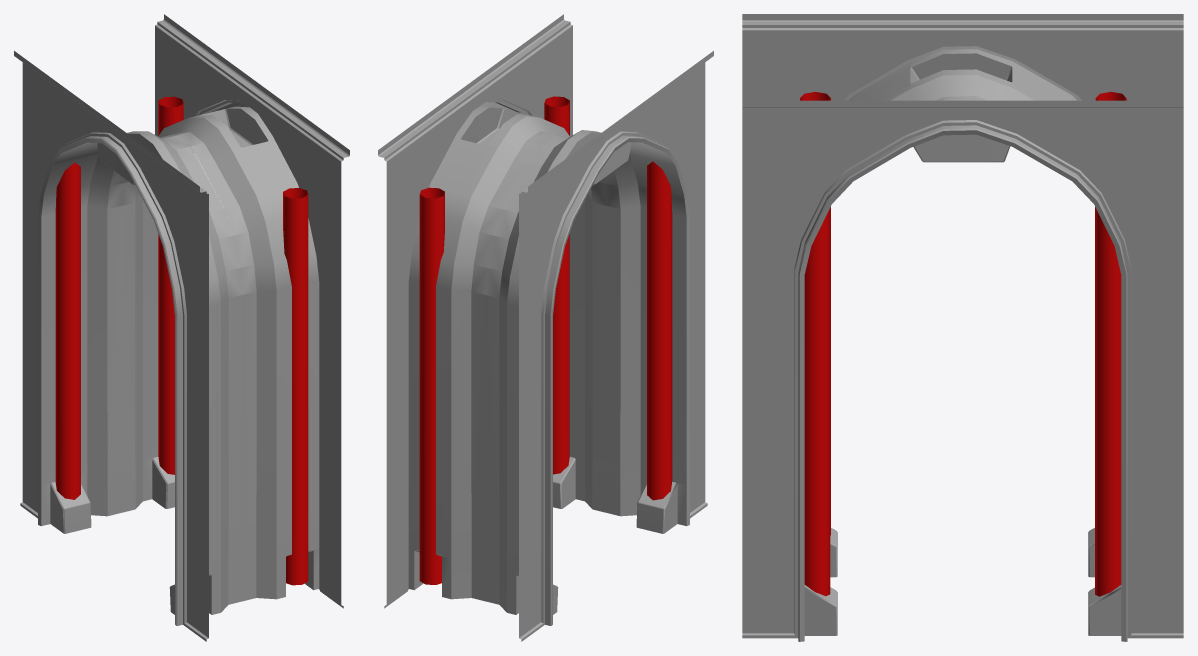
File: aqua small.fbx
The picture shows the model from 3 angles, left to right: view 1: azimuth 30°, elevation 25°; view 2: azimuth 150°, elevation 25°; view 3: azimuth 270°, elevation 25°; orthographic projection. The views are drawn at different scales.
Parts seen in each view (by area): view 1: Base_structure1, pipe_2, pipe_4, pipe_3; view 2: Base_structure1, pipe_1, pipe_3, pipe_4; view 3: Base_structure1, pipe_3, pipe_4.
Part boxes in pixels (box(x1,y1,x2,y2)): Base_structure1: box(14, 14, 349, 641); pipe_2: box(55, 162, 80, 499); pipe_4: box(283, 188, 308, 585); pipe_3: box(158, 96, 183, 474); Base_structure1: box(378, 14, 713, 641); pipe_1: box(647, 161, 672, 500); pipe_3: box(419, 187, 444, 584); pipe_4: box(544, 96, 569, 474); Base_structure1: box(742, 14, 1183, 641); pipe_3: box(1095, 207, 1121, 596); pipe_4: box(804, 208, 830, 596).
Bounding box in the file's own units: 2.79 × 8.12 × 6.
